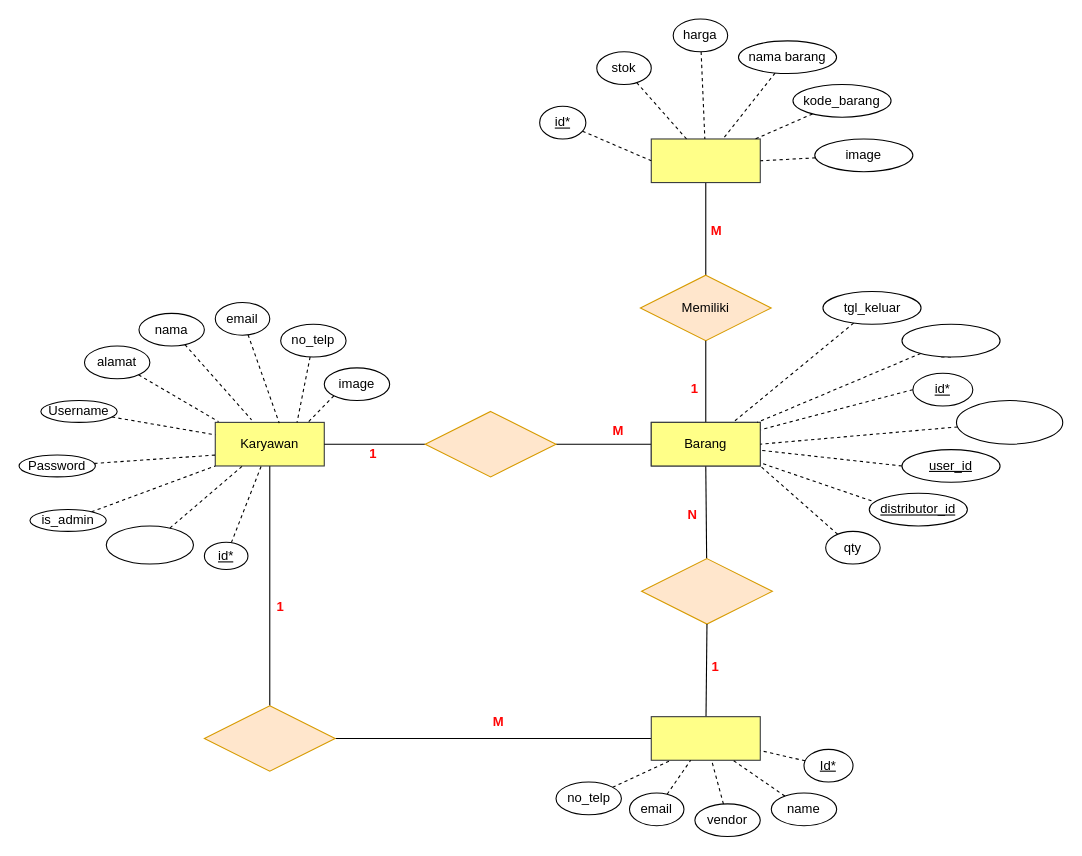
This 1082x856 diagram has some shape labels left out. Each missing label, with the centre of its shape:
Distributor: point 705,738
Diterima: point 490,443
is_karyawan: point 149,544
Jenis Barang: point 705,160
jenisBarang_id: point 1009,421
Memesan: point 269,738
Mengirim: point 706,591
tgl_masuk: point 950,340
